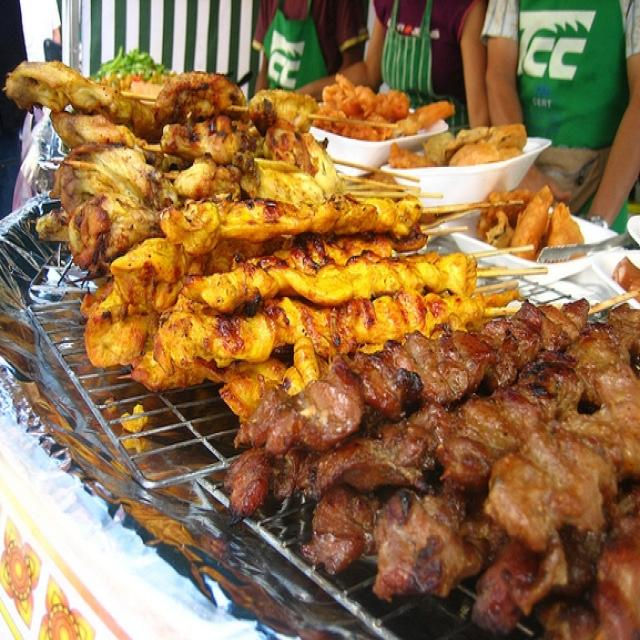牛肉菜式: (13, 28, 629, 611)
